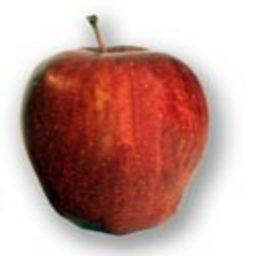apple: (21, 46, 209, 236)
